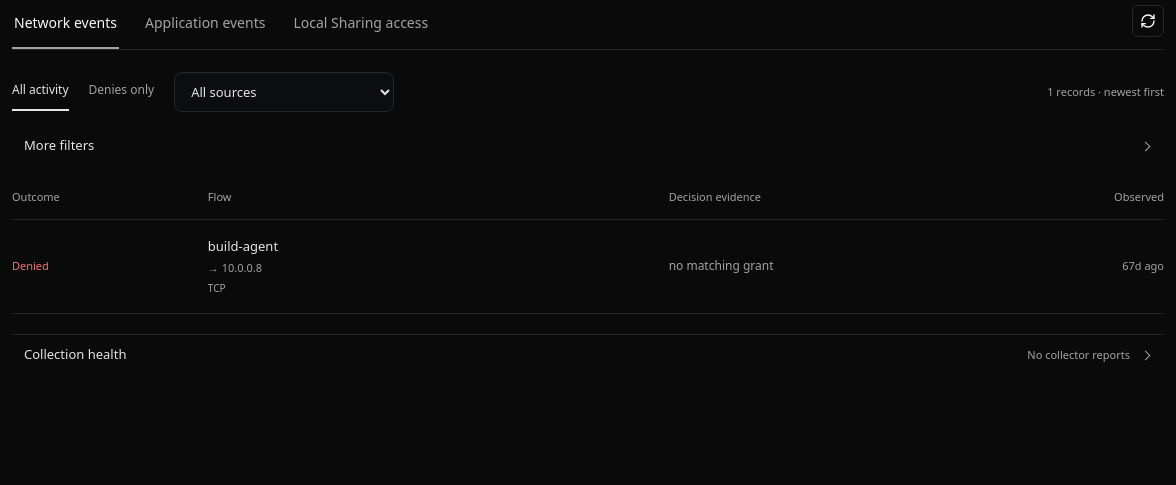
Scenario: released access-event identity attribution › describes filtered zero results without claiming the global retained feed is empty
Click the button "Denies only".
click(121, 92)  # box [88,73,154,111]
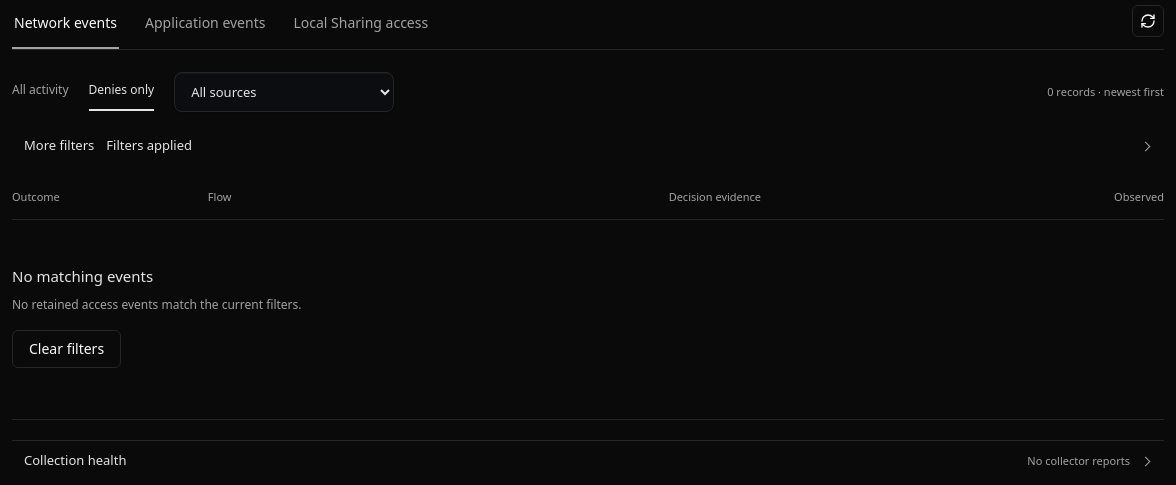
Expected: the dropdown named "Source identity" is shown, [174,72,394,112]
Expected: the text "No retained access events match the current filters." is shown, [12,296,302,313]
